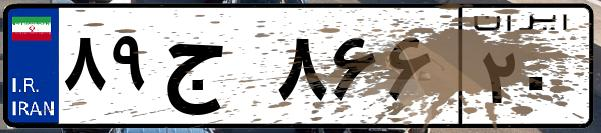0: (525, 38, 570, 115)
2: (475, 38, 525, 113)
6: (385, 28, 445, 110), (330, 28, 385, 110)
8: (270, 28, 330, 110), (57, 26, 110, 100)
9: (110, 28, 158, 98)
ج: (158, 20, 270, 120)
